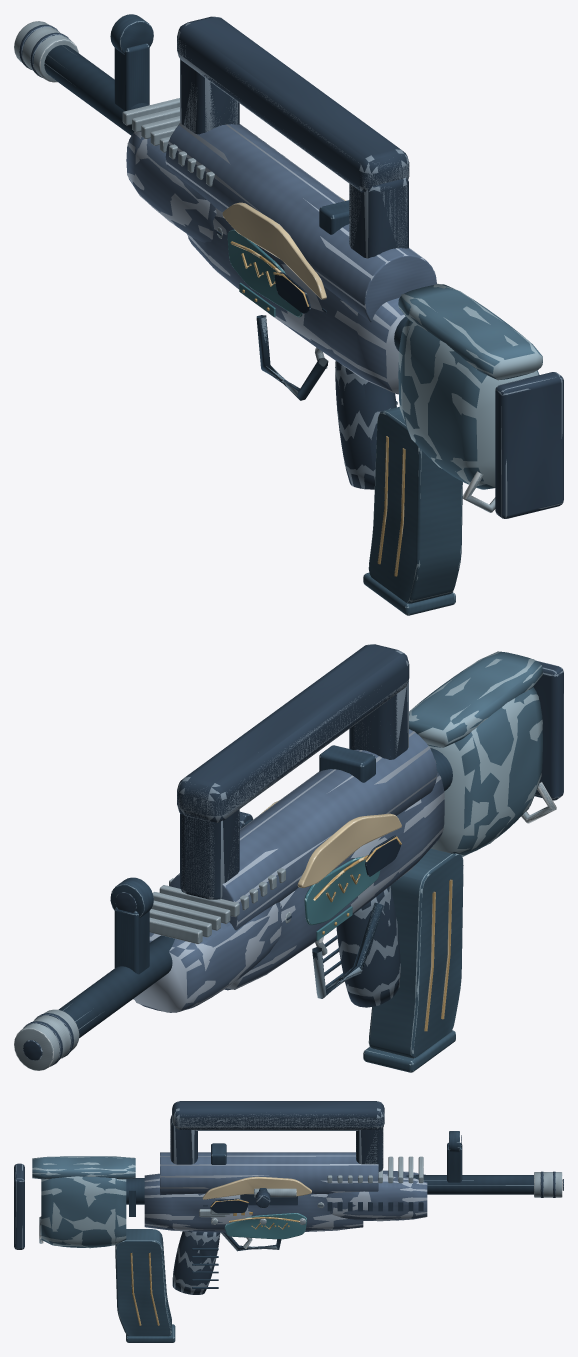
Rendered from anime-famas.glb.
3 renders of one model, top to bottom at view 1: azimuth 30°, elevation 25°; view 2: azimuth 150°, elevation 25°; view 3: azimuth 270°, elevation 25°, orthographic. The views are drawn at different scales.
Parts seen in each view (by area): view 1: weapon_Polymer, weapon_Weapon finish / Parkerized steel, World paint, magazine_Magazine satin alloy, weapon_Weapon finish / Polymer, weapon_Parkerized steel, World hardware, weapon_Machined edges, weapon_Weapon finish / Ivory enamel, weapon_Inset blue ceramic, magazine_Etched brass detail, weapon_Recessed graphite mechanism; view 2: weapon_Polymer, weapon_Weapon finish / Parkerized steel, World paint, magazine_Magazine satin alloy, weapon_Weapon finish / Polymer, World hardware, weapon_Parkerized steel, weapon_Machined edges, weapon_Weapon finish / Ivory enamel, weapon_Inset blue ceramic, magazine_Etched brass detail, weapon_Recessed graphite mechanism; view 3: weapon_Weapon finish / Parkerized steel, weapon_Polymer, World paint, weapon_Weapon finish / Polymer, magazine_Magazine satin alloy, World hardware, weapon_Parkerized steel, weapon_Machined edges, weapon_Inset blue ceramic, weapon_Weapon finish / Ivory enamel, weapon_Recessed graphite mechanism, magazine_Etched brass detail (+1 smaller).
Boxes of the visible parts, box(x1,y1,x2,y2) form: weapon_Polymer: box(19, 16, 563, 518); weapon_Weapon finish / Parkerized steel: box(126, 124, 436, 394); World paint: box(127, 122, 542, 489); magazine_Magazine satin alloy: box(363, 407, 462, 615); weapon_Weapon finish / Polymer: box(398, 284, 542, 489); weapon_Parkerized steel: box(44, 14, 407, 404); World hardware: box(14, 14, 563, 614); weapon_Machined edges: box(14, 21, 495, 512); weapon_Weapon finish / Ivory enamel: box(222, 197, 345, 299); weapon_Inset blue ceramic: box(227, 229, 302, 317); magazine_Etched brass detail: box(377, 436, 405, 576); weapon_Recessed graphite mechanism: box(274, 272, 310, 313); weapon_Polymer: box(23, 644, 563, 1066); weapon_Weapon finish / Parkerized steel: box(133, 729, 444, 1012); World paint: box(134, 651, 542, 1012); magazine_Magazine satin alloy: box(363, 848, 463, 1072); weapon_Weapon finish / Polymer: box(409, 651, 542, 855); World hardware: box(14, 644, 563, 1072); weapon_Parkerized steel: box(58, 745, 452, 1038); weapon_Machined edges: box(14, 782, 556, 1070); weapon_Weapon finish / Ivory enamel: box(261, 800, 401, 887); weapon_Inset blue ceramic: box(304, 856, 380, 940); magazine_Etched brass detail: box(424, 879, 452, 1031); weapon_Recessed graphite mechanism: box(365, 835, 400, 876); weapon_Weapon finish / Parkerized steel: box(144, 1152, 427, 1232); weapon_Polymer: box(14, 1101, 563, 1294); World paint: box(32, 1152, 427, 1248); weapon_Weapon finish / Polymer: box(32, 1156, 135, 1247); magazine_Magazine satin alloy: box(115, 1229, 175, 1342); World hardware: box(14, 1101, 563, 1342); weapon_Parkerized steel: box(126, 1131, 533, 1288); weapon_Machined edges: box(39, 1156, 562, 1243); weapon_Inset blue ceramic: box(224, 1213, 306, 1239); weapon_Weapon finish / Ivory enamel: box(202, 1176, 311, 1199); weapon_Recessed graphite mechanism: box(210, 1198, 248, 1213); magazine_Etched brass detail: box(130, 1253, 159, 1325).
Bounding box in the file's own units: 0.1331 × 0.421 × 0.905.
Materials: 12 (10 with a texture image).
